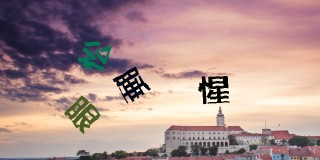惺: (198, 74, 232, 105)
松: (77, 39, 112, 73)
眼: (65, 96, 100, 133)
睡: (113, 65, 151, 104)
